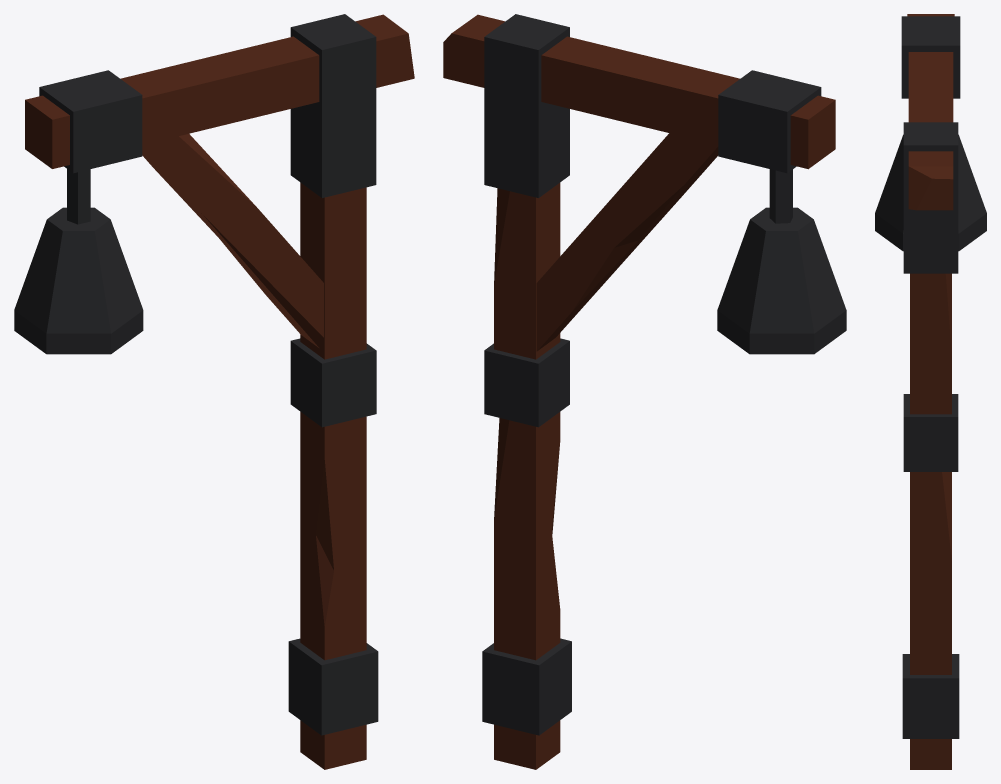
Rendered from Lamp.fbx.
3 renders of one model, left to right at view 1: azimuth 30°, elevation 25°; view 2: azimuth 150°, elevation 25°; view 3: azimuth 270°, elevation 25°, orthographic. The views are drawn at different scales.
Parts seen in each view (by area): view 1: Lamp; view 2: Lamp; view 3: Lamp.
Part boxes in pixels (x1=…): Lamp: x1=14, y1=14, x2=414, y2=769; Lamp: x1=443, y1=14, x2=846, y2=769; Lamp: x1=875, y1=14, x2=986, y2=769.
Size of the model in its own units: 49.46 by 91.5 by 14.8.
